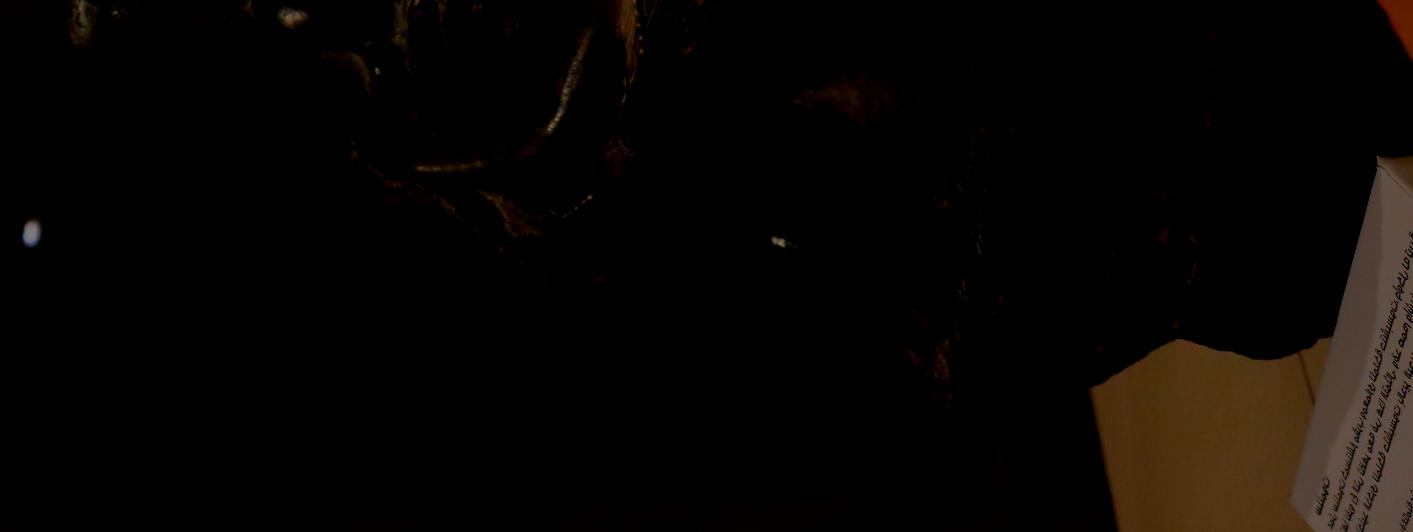Senenmut: (0, 0, 512, 532)
